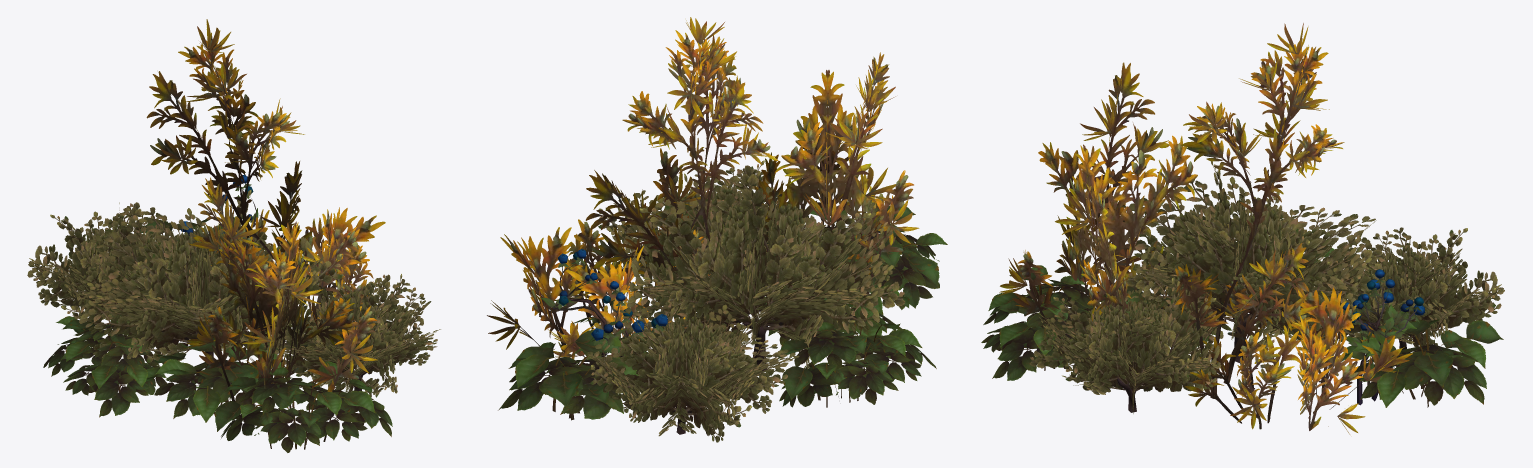
3 renders of one model, left to right at view 1: azimuth 30°, elevation 25°; view 2: azimuth 150°, elevation 25°; view 3: azimuth 270°, elevation 25°, orthographic. The views are drawn at different scales.
Bounding box in the file's own units: 10.13 × 9.75 × 12.75.
6 materials, 6 textured.
